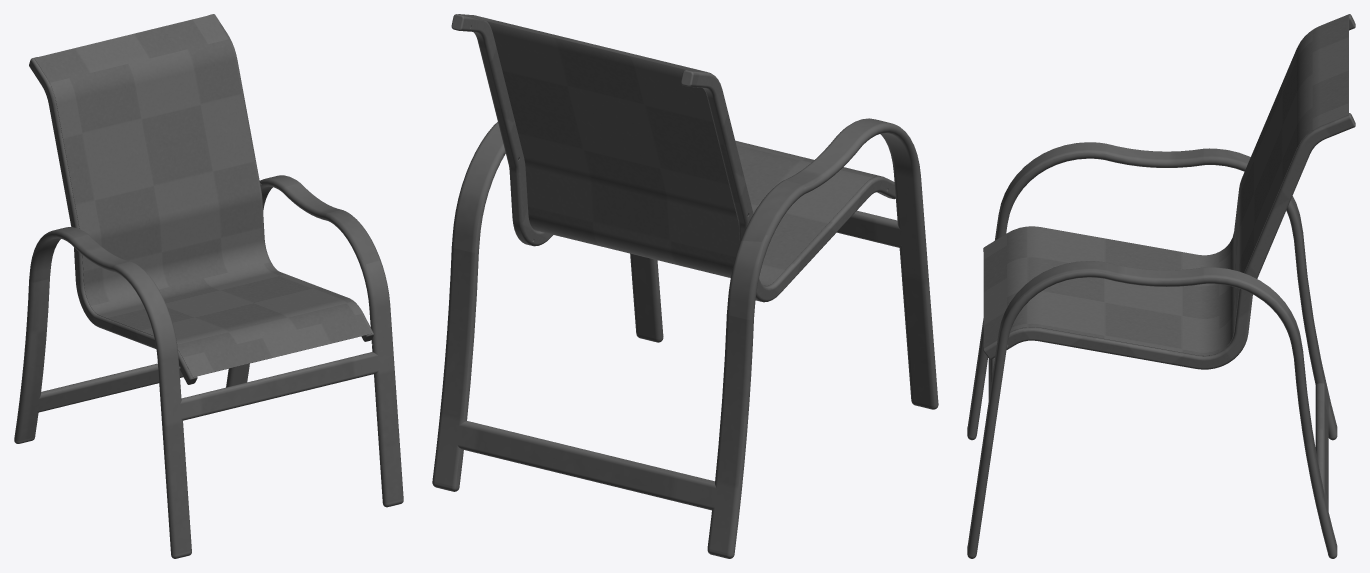
The picture shows the model from 3 angles, left to right: view 1: azimuth 30°, elevation 25°; view 2: azimuth 150°, elevation 25°; view 3: azimuth 270°, elevation 25°; orthographic projection. The views are drawn at different scales.
Visible parts, largest first — view 1: FABRIC-1, FRAME-1, SLING1-1, SLING2-1; view 2: FABRIC-1, FRAME-1, SLING1-1, SLING2-1; view 3: FABRIC-1, FRAME-1, SLING2-1.
Part boxes in pixels (x1,y1,x2,y2): FABRIC-1: (34, 14, 371, 377); FRAME-1: (14, 175, 403, 558); SLING1-1: (29, 57, 197, 384); SLING2-1: (209, 14, 374, 341); FABRIC-1: (458, 14, 893, 286); FRAME-1: (432, 118, 938, 558); SLING1-1: (681, 70, 895, 302); SLING2-1: (451, 14, 552, 246); FABRIC-1: (983, 14, 1348, 356); FRAME-1: (967, 142, 1337, 558); SLING2-1: (983, 113, 1355, 369).
Bounding box in the file's own units: 0.6287 × 0.9726 × 0.794.
1 material, 1 textured.
